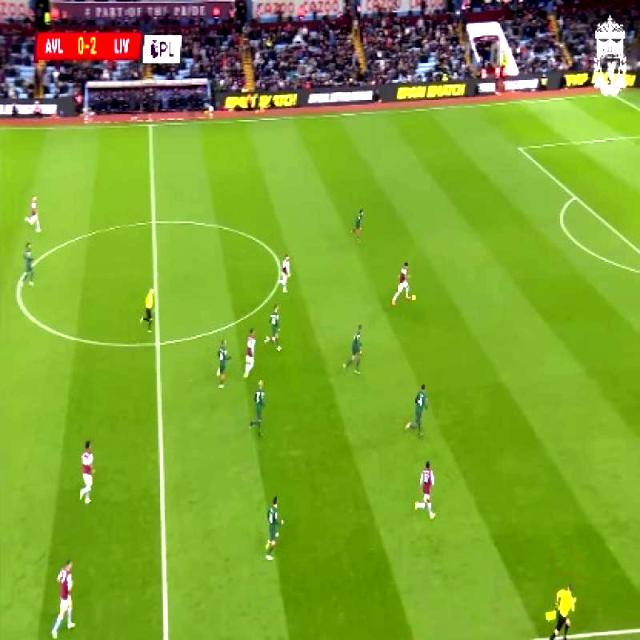bigarea_top_inner: (511, 138, 526, 157)
halfcircle_bottom: (144, 328, 166, 358)
halfcircle_top: (143, 208, 165, 234)
midline_top_intersection: (144, 114, 158, 134)
top_arc_area_intersection: (566, 186, 582, 204)
